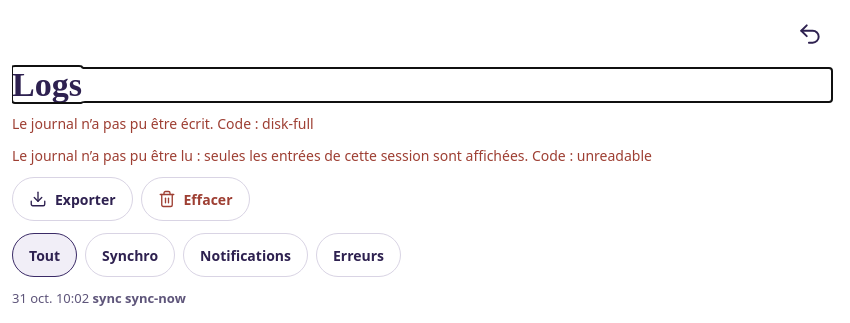
Test: I-04 : écran Logs › critère 10 : échec d’écriture affiché en rouge avec le code ; échec de lecture affiché au lieu d’une liste vide
This screenshot has width=850, height=323.
Check: the text "Le journal n’a pas pu être écrit. Code : disk-full" is shown, box [12, 114, 314, 133]
Les entrées de la session restent affichées (lecture de secours).
What coordinates should you click on to do the following:
click the button "Synchro"
I would click on:
 (130, 255)
Its box is [85, 233, 175, 277].
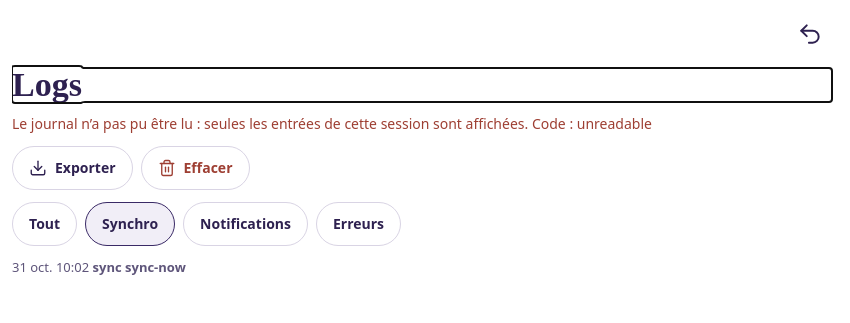
Check: the text "Le journal n’a pas pu être écrit" is gone
